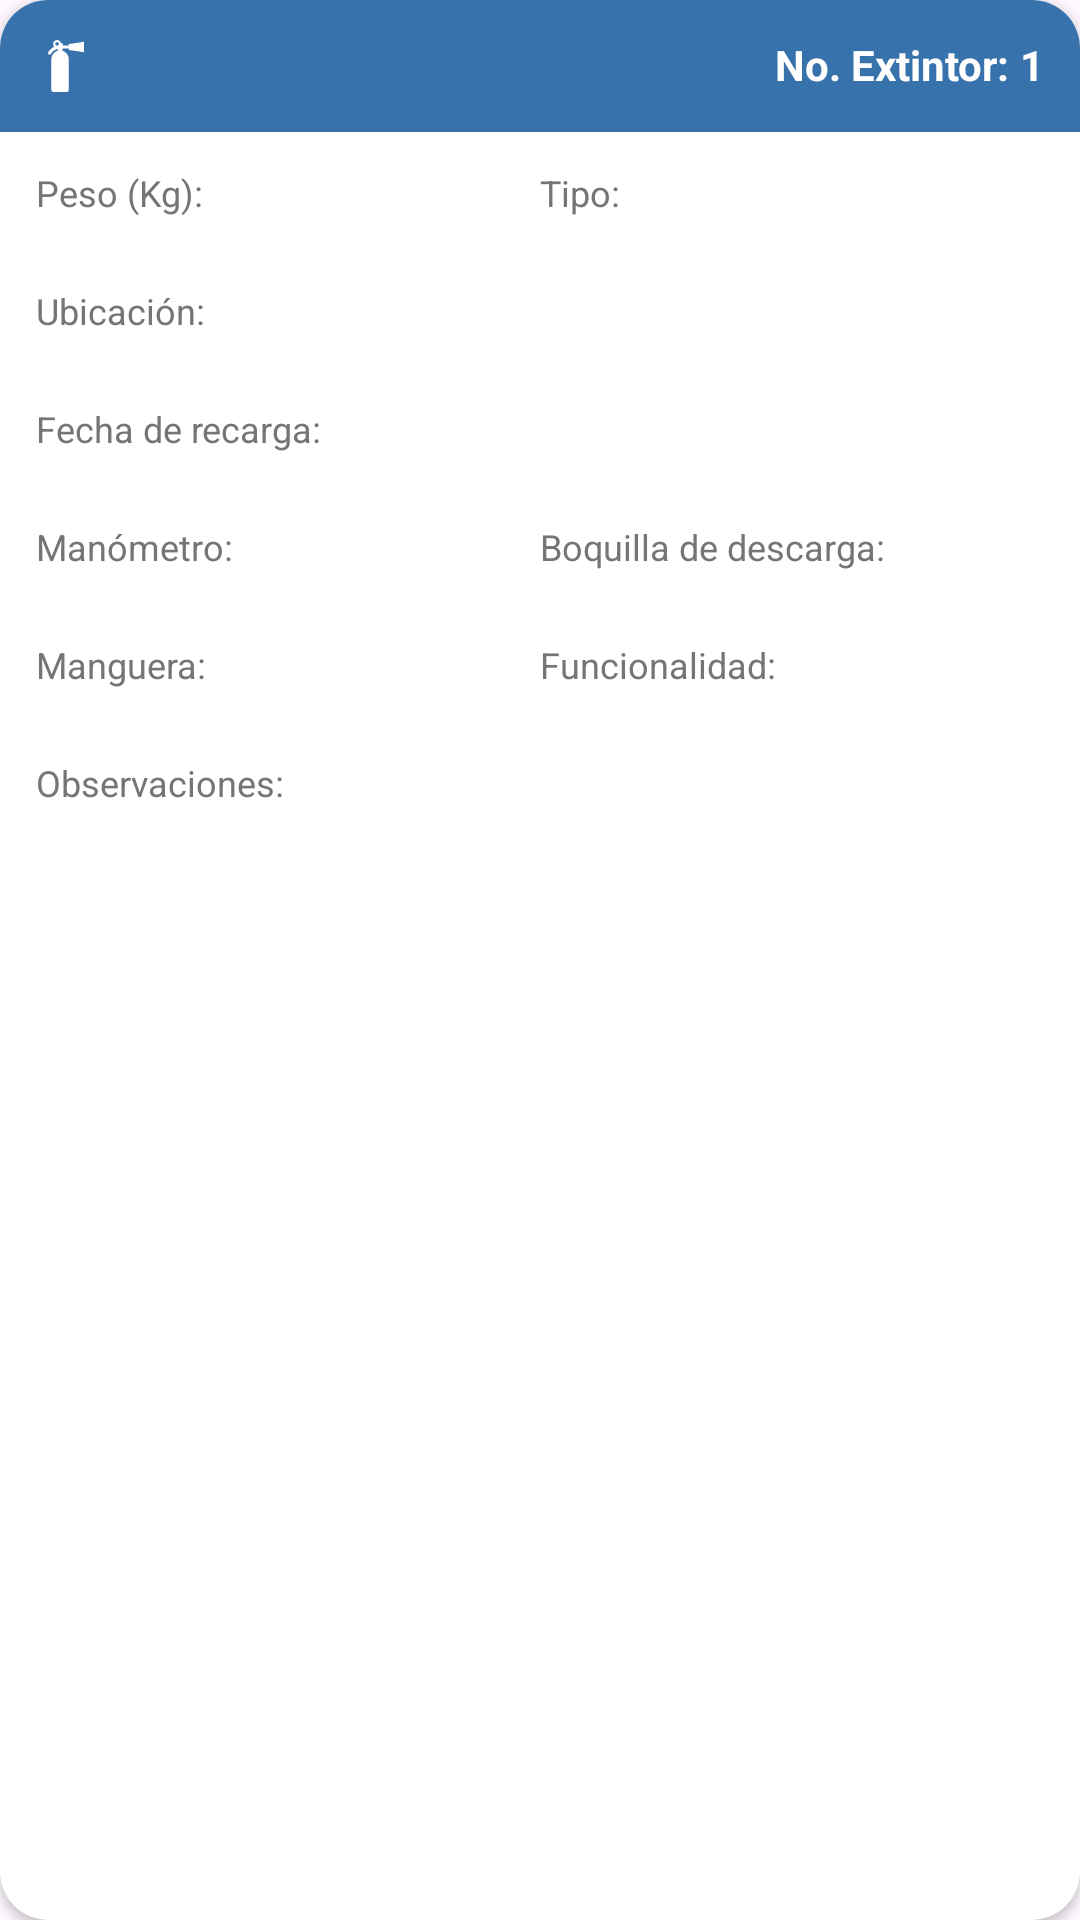

Icons on this 1080w x 1920h Android screen, each with its box as (x1, y1, x2, y2):
extintores: (48, 40, 84, 92)
